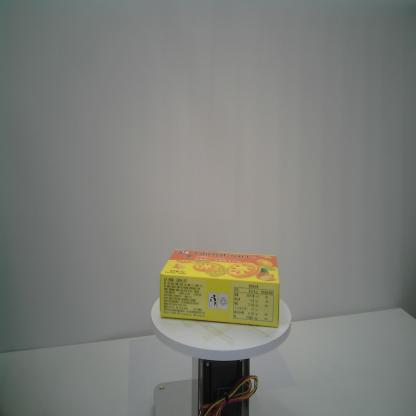Dessert: (160, 248, 280, 329)
